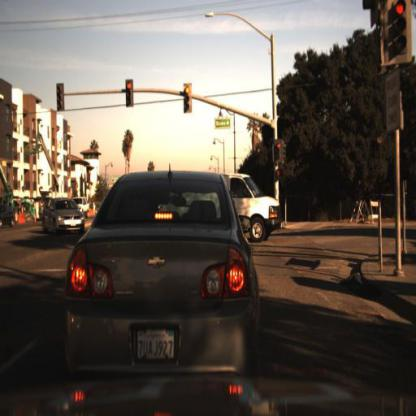car: (66, 167, 262, 413), (232, 163, 287, 251), (38, 191, 87, 243)
trafficLight: (183, 82, 193, 117), (56, 84, 65, 111)
trafficLight-Red: (381, 1, 416, 77), (125, 78, 135, 109), (274, 138, 285, 165)
